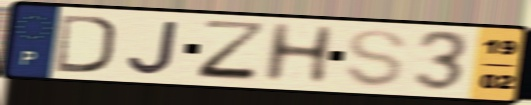3: (411, 28, 472, 95)
D: (54, 12, 118, 75)
H: (259, 21, 339, 85)
J: (125, 18, 182, 76)
S: (341, 27, 409, 89)
Z: (194, 18, 271, 85)
